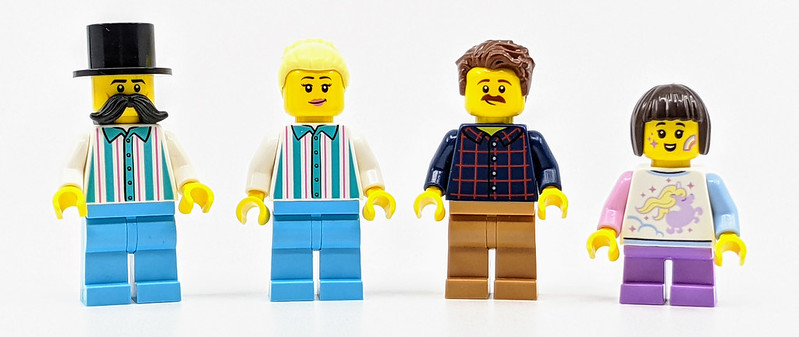lego: (46, 13, 223, 315), (238, 35, 400, 312), (412, 33, 572, 312), (589, 76, 757, 315)
